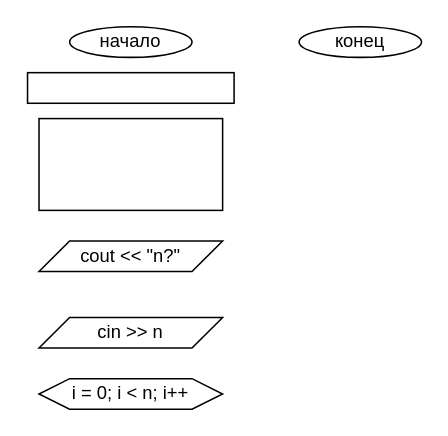
Image size: 448x436. Some labels were removed from this diagram. Each missing label, with the centre of its shape:
setlocale(LC_ALL, "RU"): (130,87)
Объявление переменных a[100], n, i_mx = -1, i_mn = -1: (130,163)
